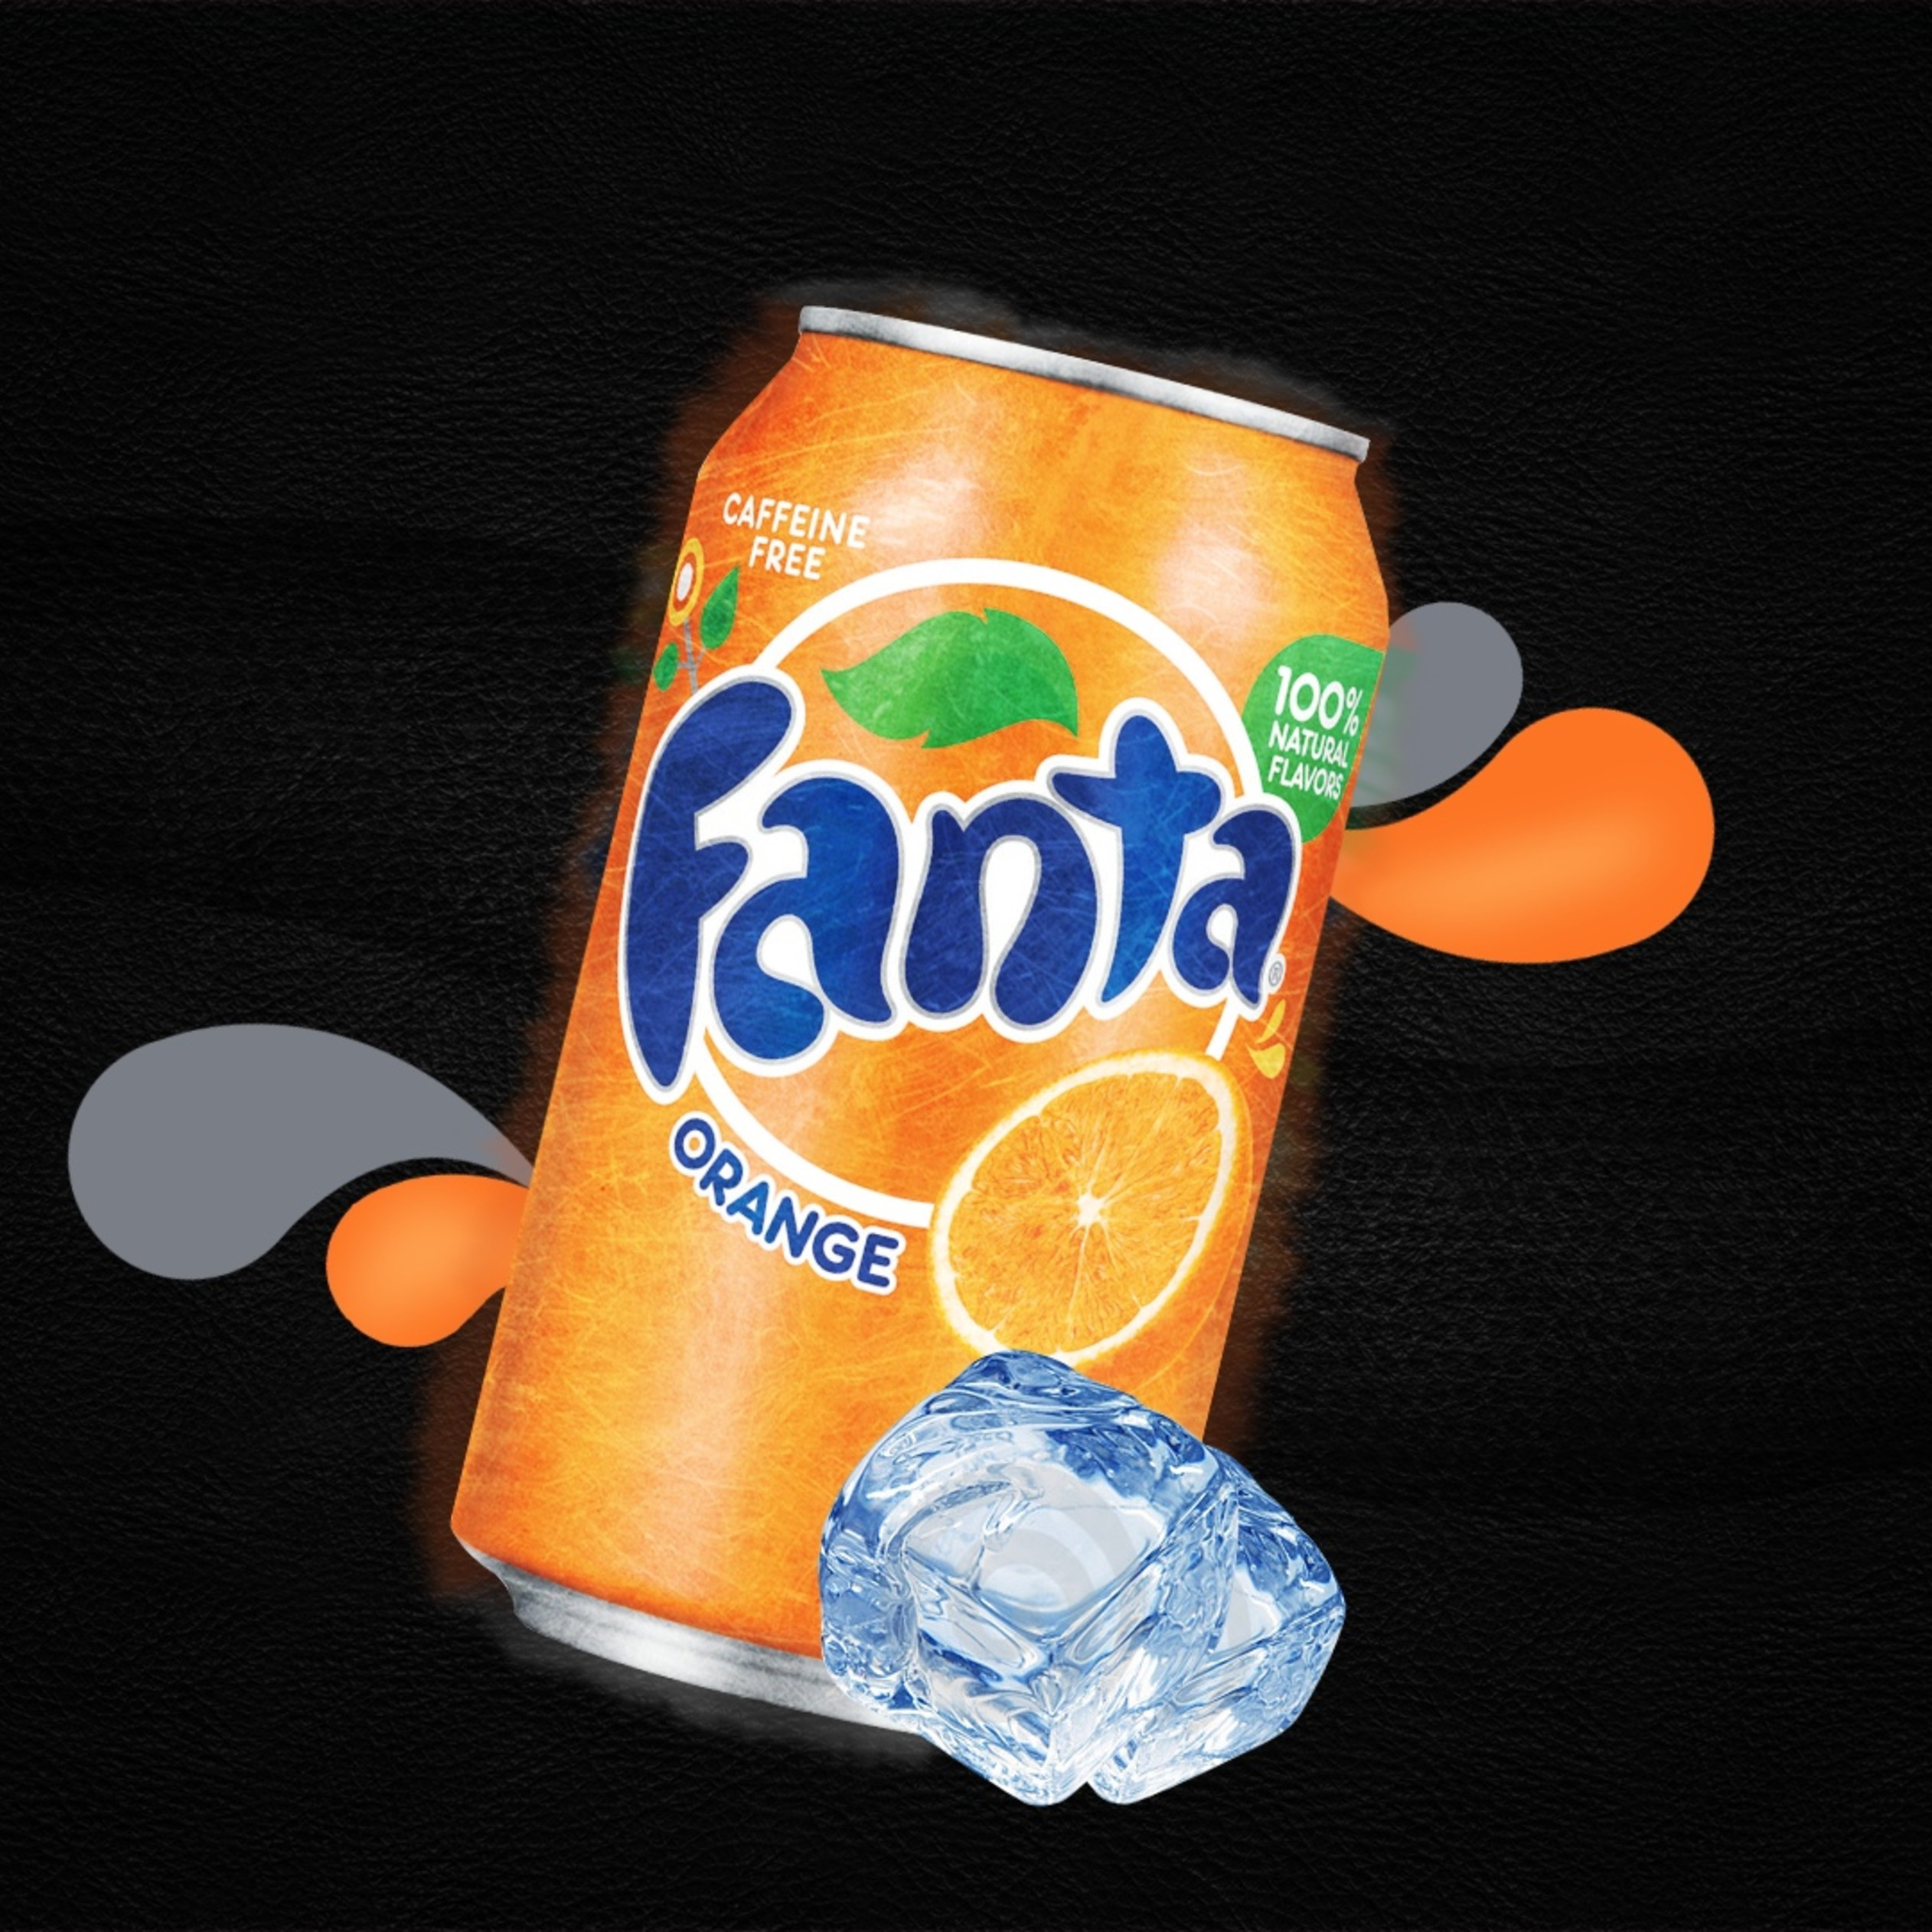fanta: (476, 421, 1359, 1651)
